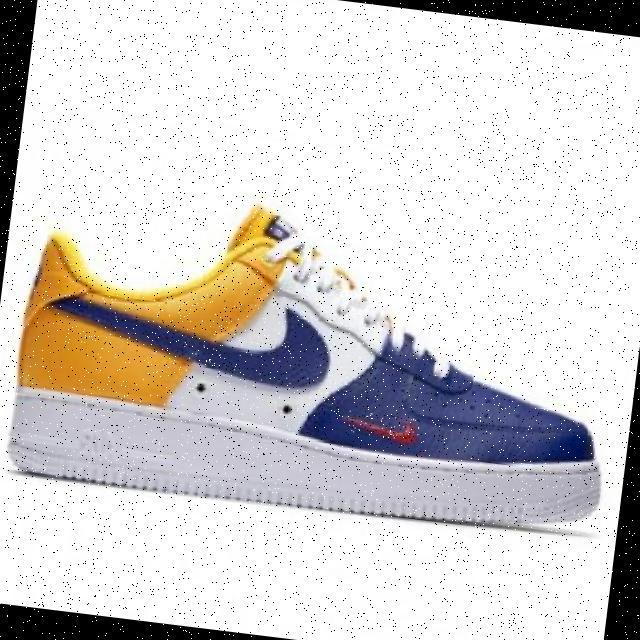Nike: (67, 276, 340, 390), (344, 410, 420, 441)
